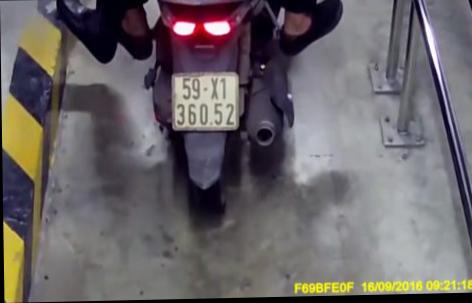LP: (172, 72, 240, 132)
